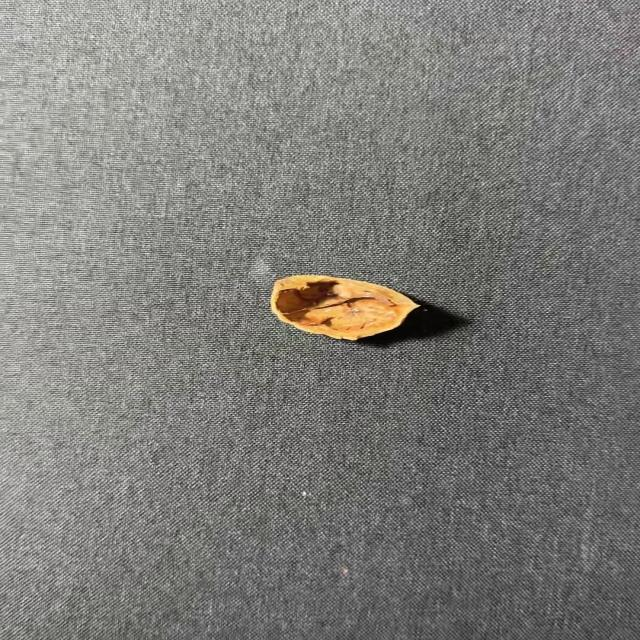nuts-bad0.25: (271, 275, 418, 340)
